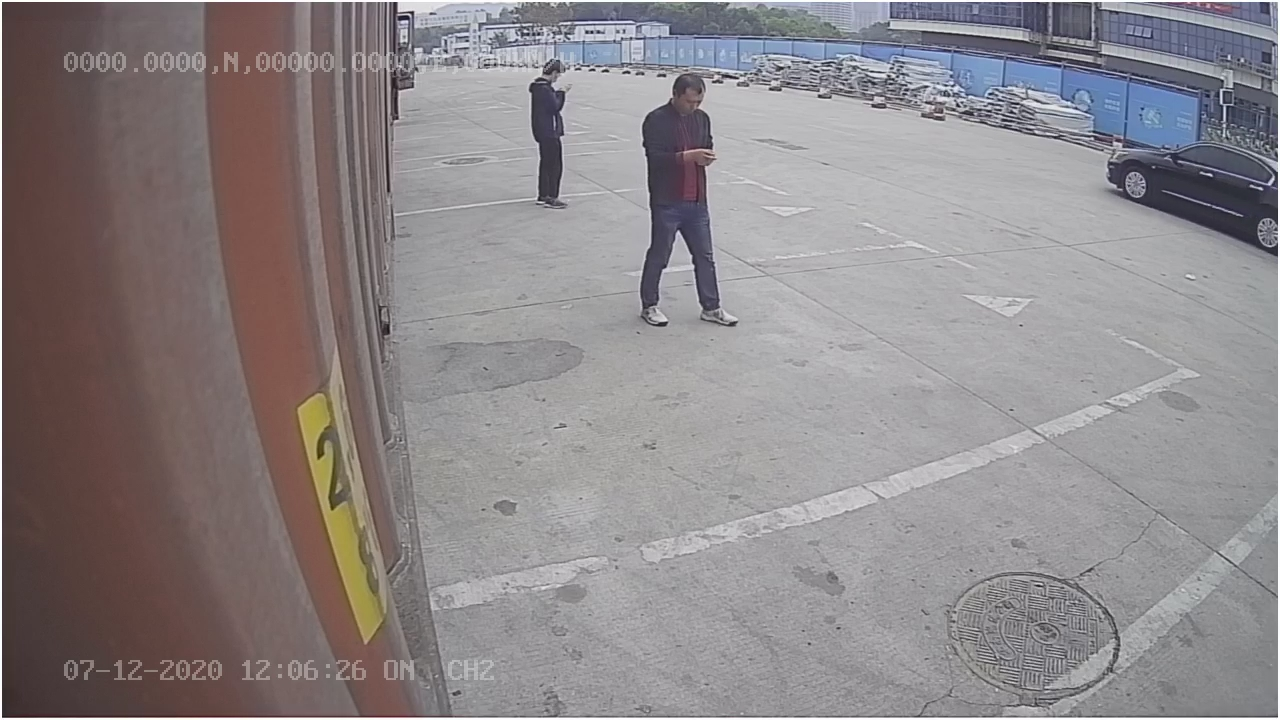person: (640, 67, 737, 333)
